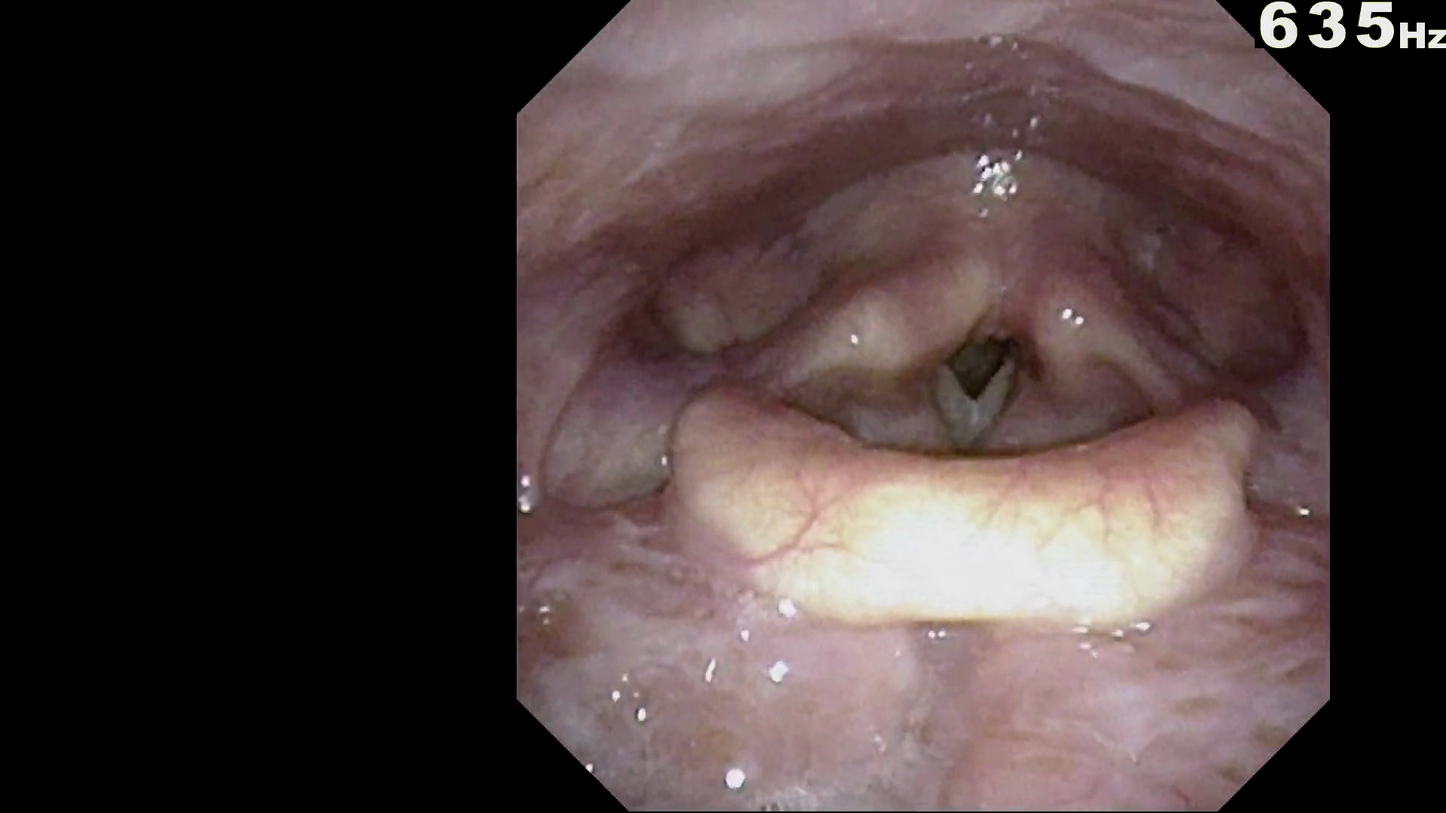epiglottis: (658, 387, 1247, 636)
trachea: (917, 327, 1008, 450)
